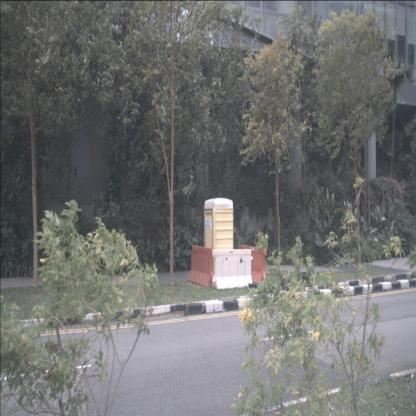movable_object-barrier: (212, 249, 253, 290), (188, 245, 216, 288), (239, 244, 267, 284)
